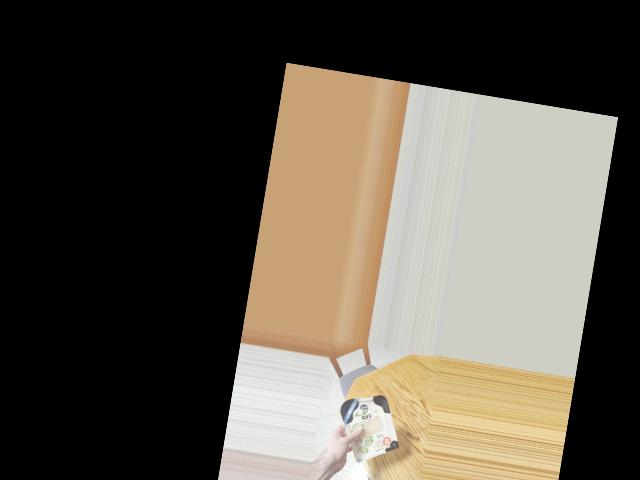cheese: (329, 388, 402, 461)
